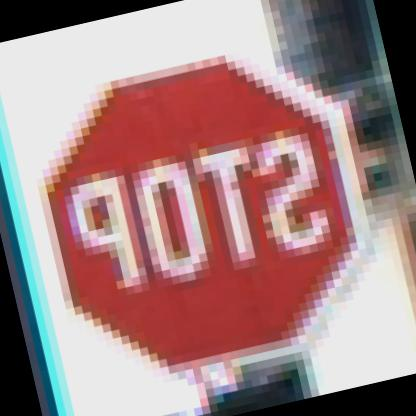stop: (0, 12, 412, 415)
